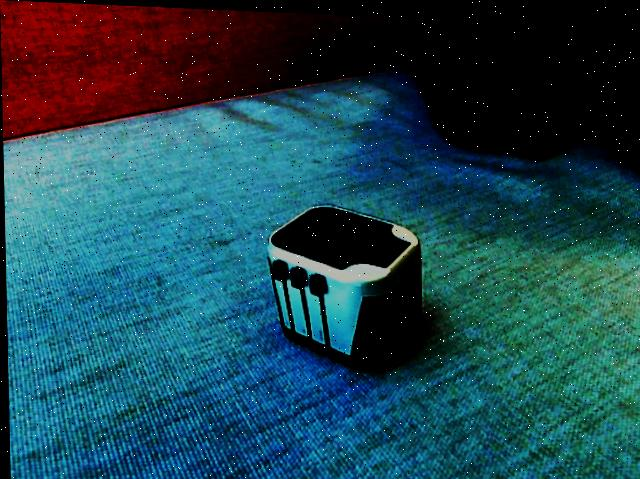adapter: (263, 199, 423, 369)
